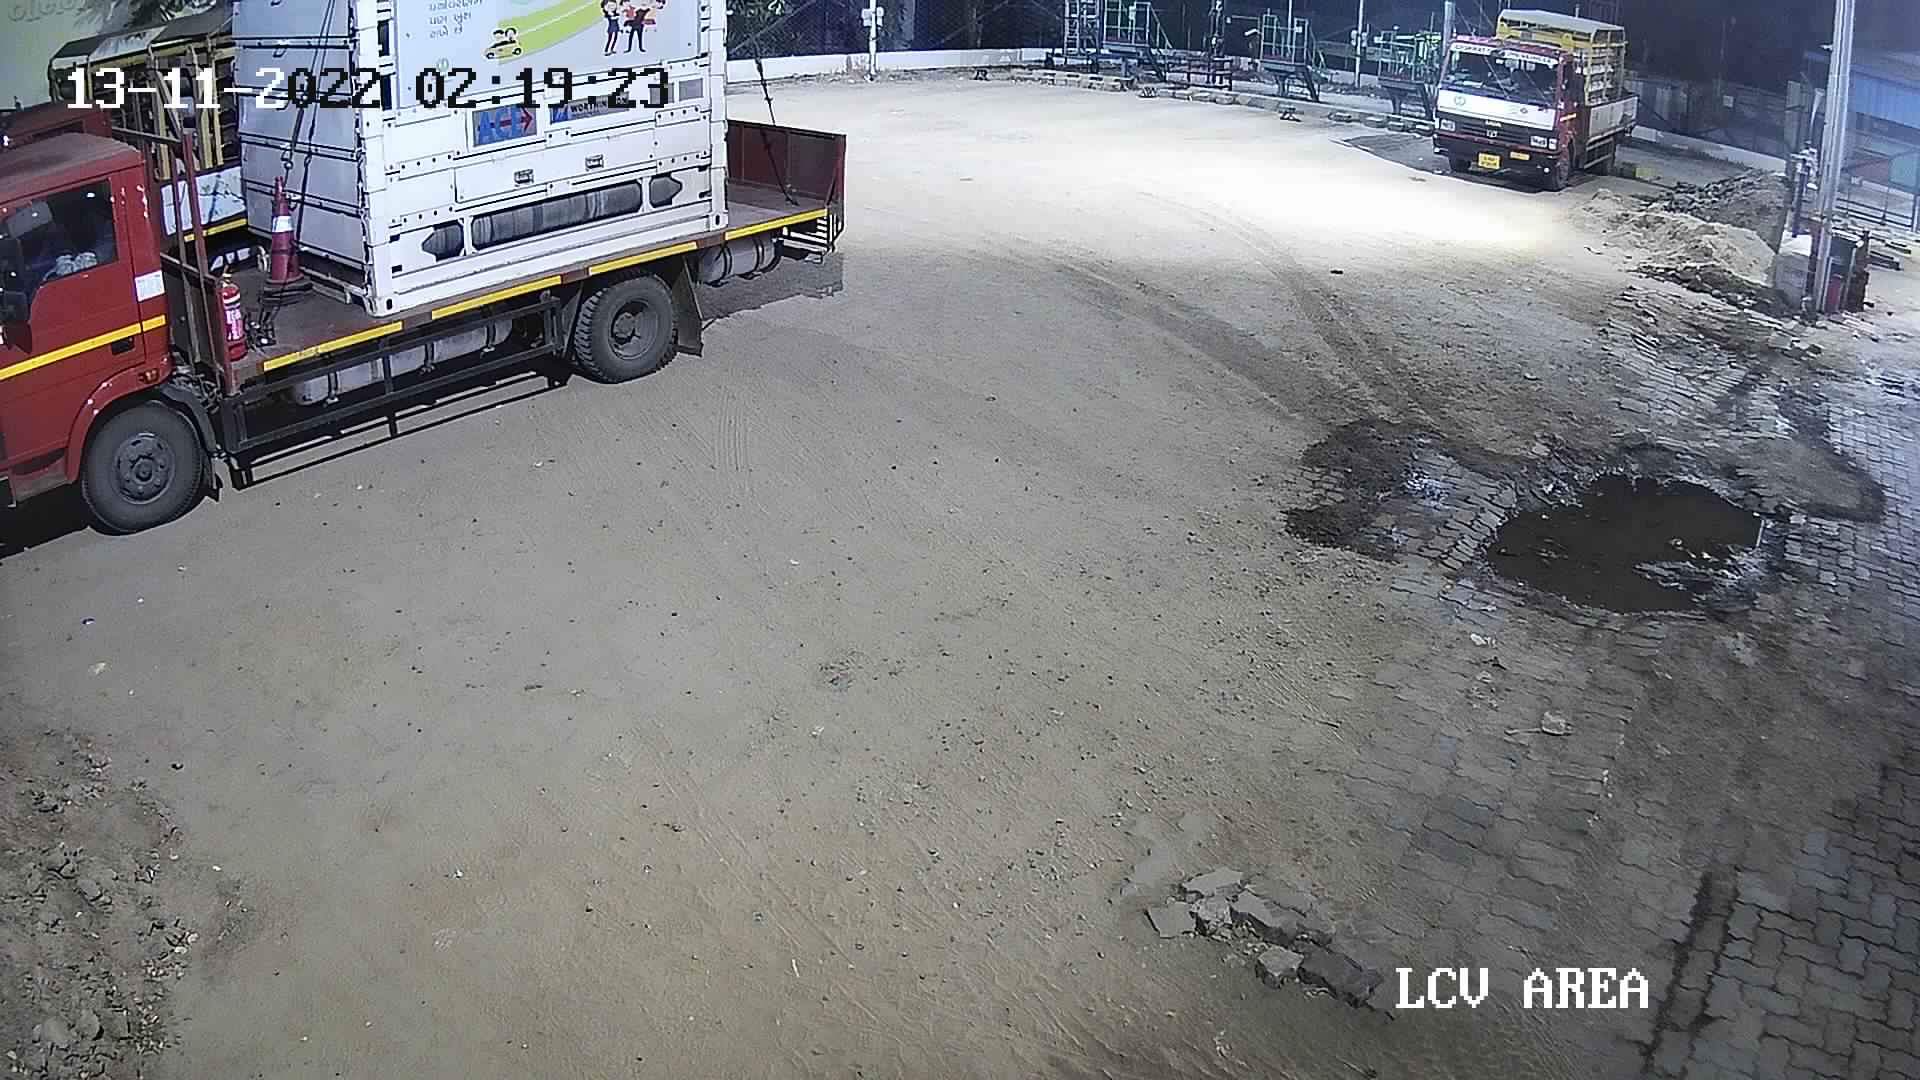HMV: (0, 3, 862, 563), (1, 1, 270, 281), (1420, 0, 1660, 193)
